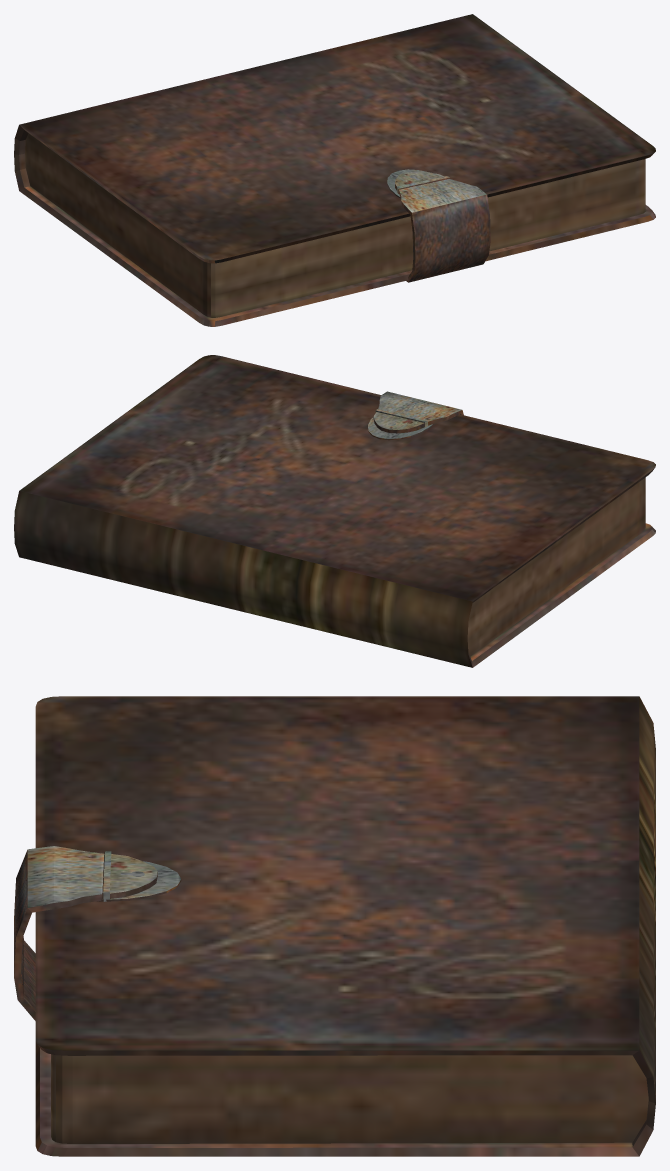
File: Diary.FBX
3 renders of one model, top to bottom at view 1: azimuth 30°, elevation 25°; view 2: azimuth 150°, elevation 25°; view 3: azimuth 270°, elevation 25°, orthographic. The views are drawn at different scales.
Visible parts, largest first — view 1: Box002, Cylinder003; view 2: Box002, Cylinder003; view 3: Box002, Cylinder003.
Boxes of the visible parts, x1=… form: Box002: x1=14, y1=14, x2=655, y2=326; Cylinder003: x1=387, y1=169, x2=490, y2=282; Box002: x1=14, y1=355, x2=655, y2=667; Cylinder003: x1=367, y1=391, x2=463, y2=440; Box002: x1=35, y1=696, x2=655, y2=1156; Cylinder003: x1=14, y1=846, x2=181, y2=1020.
Size of the model in its own units: 29.1 by 4.67 by 22.29.
2 materials, 2 textured.
